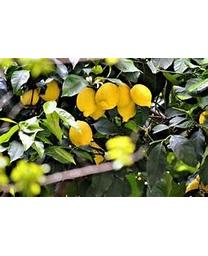lemon: (69, 121, 93, 147), (77, 86, 97, 116), (96, 84, 119, 110), (132, 84, 152, 108)
